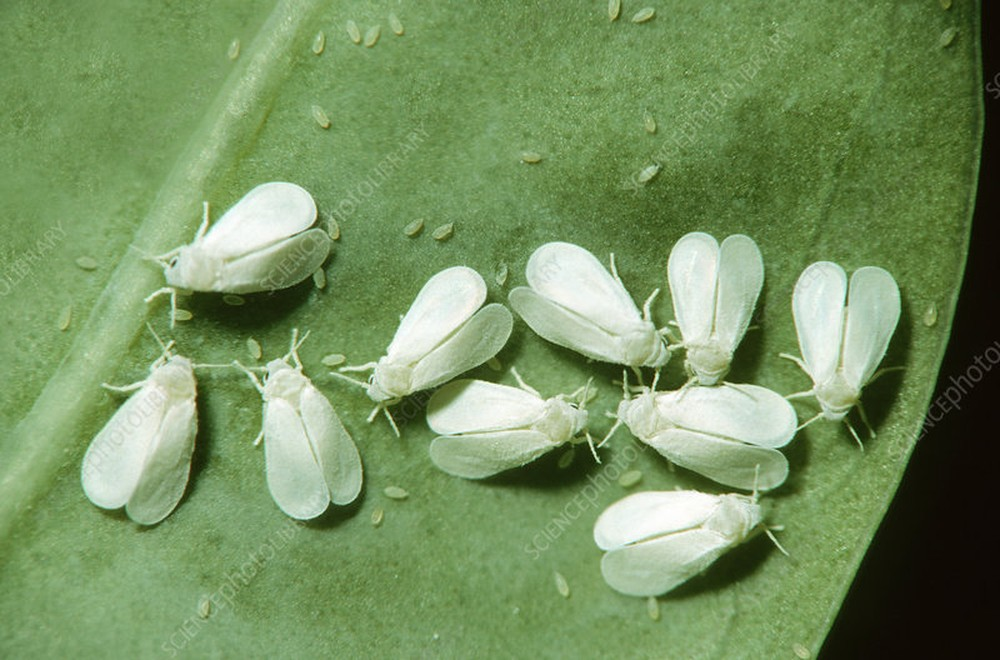Mosca Blanca: (130, 167, 340, 321), (78, 330, 225, 536), (231, 332, 382, 528), (348, 253, 508, 427), (513, 227, 681, 388), (576, 483, 804, 598), (781, 255, 909, 454), (606, 376, 810, 500), (431, 360, 605, 483), (659, 228, 767, 390)
